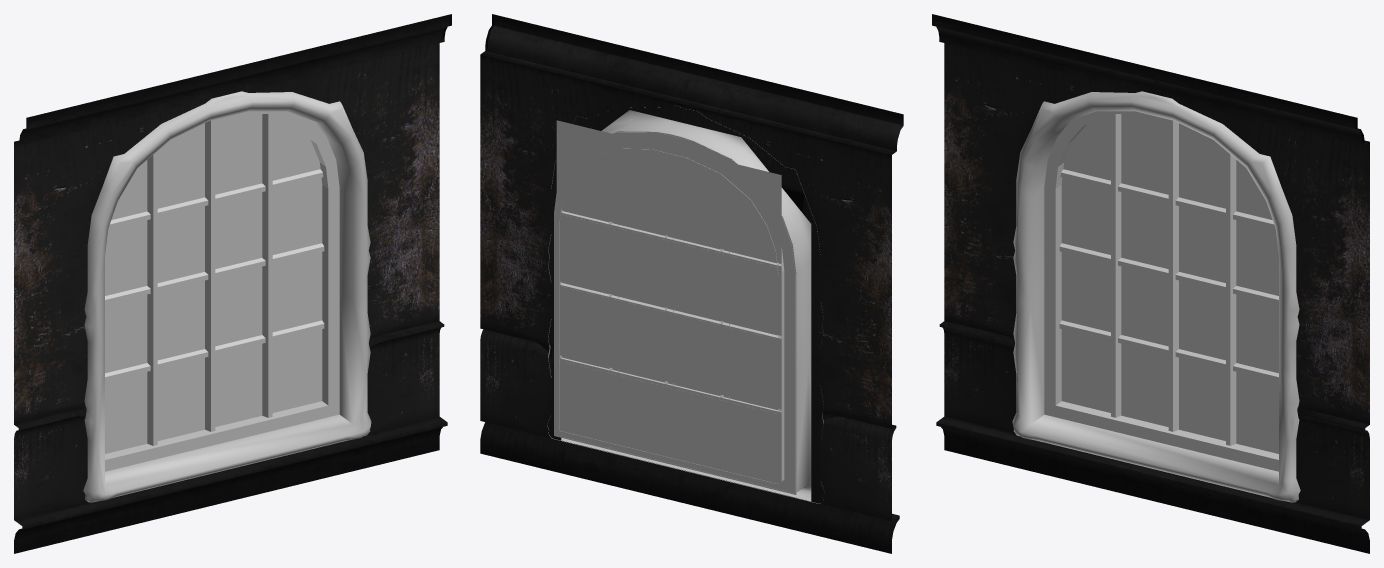
File: window_large_yellow_rotten.dae
The picture shows the model from 3 angles, left to right: view 1: azimuth 30°, elevation 25°; view 2: azimuth 150°, elevation 25°; view 3: azimuth 330°, elevation 25°; orthographic projection. The views are drawn at different scales.
Visible parts, largest first — view 1: window_large, window02_large_frame3, window02_large_glass_yellow4; view 2: window_large, window02_large_glass_yellow4, window02_large_frame3; view 3: window_large, window02_large_frame3, window02_large_glass_yellow4.
Boxes of the visible parts, box(x1,y1,x2,y2) form: window_large: box(14, 14, 451, 553); window02_large_frame3: box(83, 91, 371, 502); window02_large_glass_yellow4: box(105, 114, 322, 453); window_large: box(480, 14, 903, 553); window02_large_glass_yellow4: box(556, 120, 781, 489); window02_large_frame3: box(547, 107, 823, 503); window_large: box(932, 14, 1369, 553); window02_large_frame3: box(1012, 91, 1300, 502); window02_large_glass_yellow4: box(1061, 114, 1278, 453).
Size of the model in its own units: 4 by 4 by 0.488.
